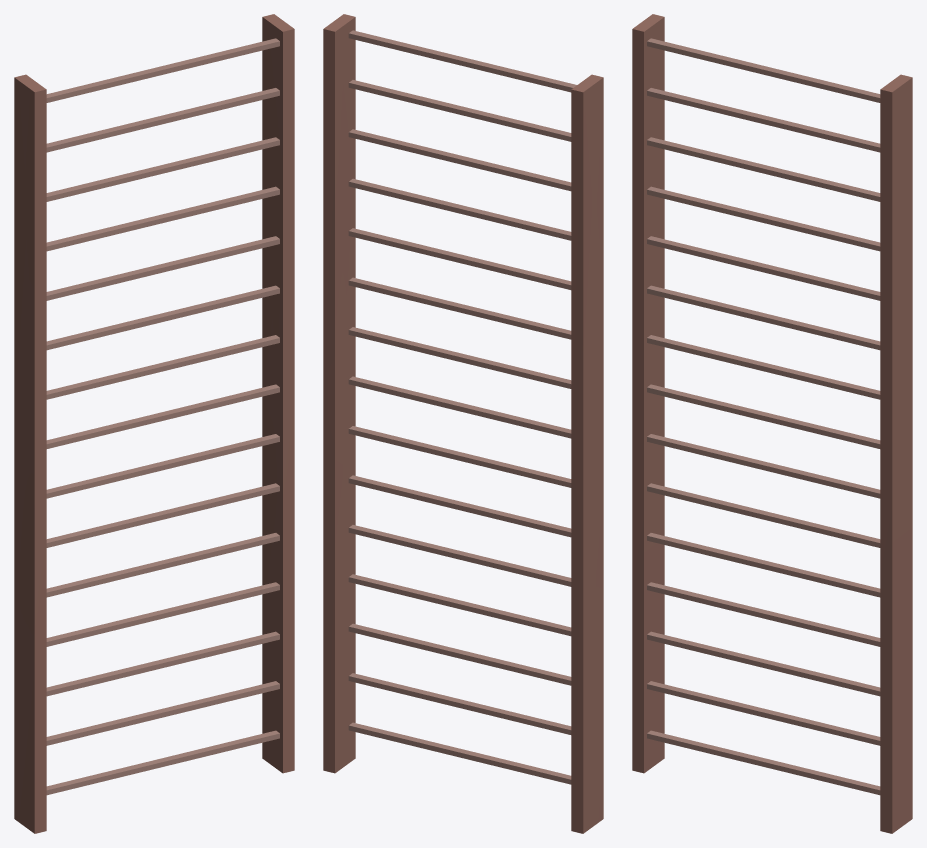
File: training_item_014.glb
The picture shows the model from 3 angles, left to right: view 1: azimuth 30°, elevation 25°; view 2: azimuth 150°, elevation 25°; view 3: azimuth 330°, elevation 25°; orthographic projection.
Visible parts, largest first — view 1: training_item_014; view 2: training_item_014; view 3: training_item_014.
Boxes of the visible parts, x1=… form: training_item_014: x1=14, y1=14, x2=294, y2=833; training_item_014: x1=323, y1=14, x2=603, y2=833; training_item_014: x1=632, y1=14, x2=912, y2=833.
Size of the model in its own units: 0.8839 by 2.41 by 0.1205.
Materials: 1 (1 with a texture image).
